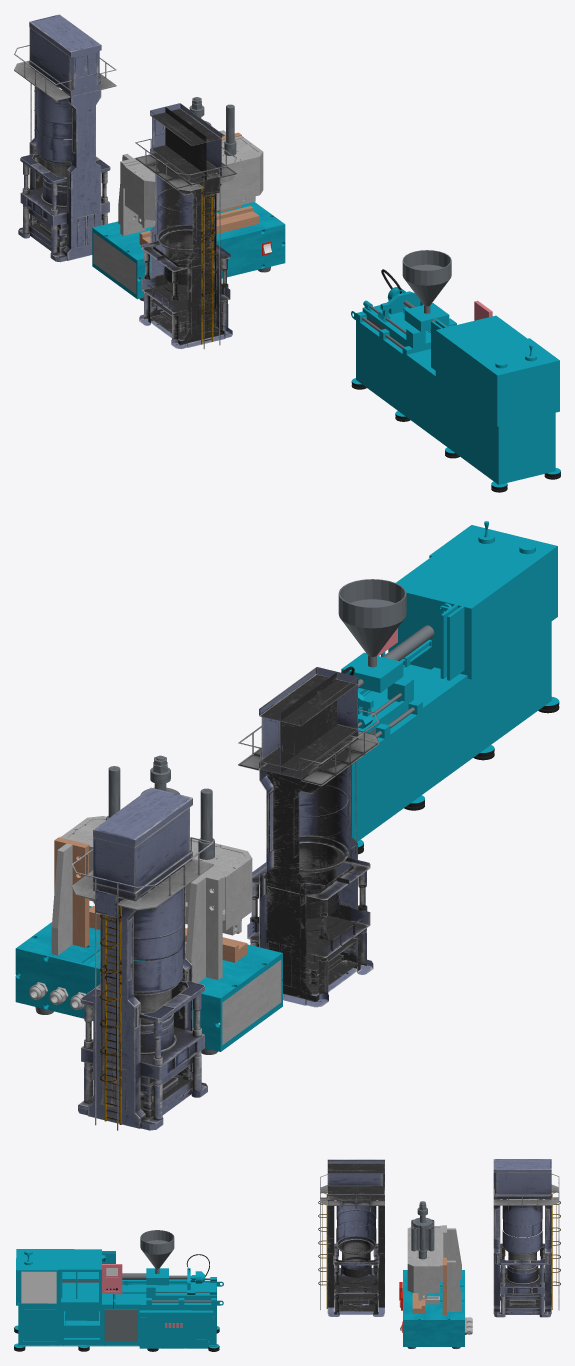
The model's file is HydroPress.glb.
3 views of the same model, one above another, from view 1: azimuth 30°, elevation 25°; view 2: azimuth 150°, elevation 25°; view 3: azimuth 270°, elevation 25° (orthographic). The views are drawn at different scales.
Parts seen in each view (by area): view 1: empty_2_6b0676, Cube.002_96fd3e, Cube.001_f675c1, ÈÈÑ¹»ú_µ¼Öù_2_8674c0, ÈÈÑ¹»ú_µ¼Öù_2_183e5d, empty_2_24949a, Cube.001_703fce, Cube.001_f0507c, Cube.002_44d481, ÈÈÑ¹»ú_µ¼Öù_2_430cdc, ÈÈÑ¹»ú_µ¼Öù_2_691172; view 2: empty_2_6b0676, Cube.002_96fd3e, Cube.001_f675c1, ÈÈÑ¹»ú_µ¼Öù_2_8674c0, ÈÈÑ¹»ú_µ¼Öù_2_183e5d, empty_2_24949a, Cube.001_703fce, Cube.002_44d481, Cube.002_81272a, ÈÈÑ¹»ú_µ¼Öù_2_430cdc, ÈÈÑ¹»ú_µ¼Öù_2_691172; view 3: empty_2_6b0676, Cube.002_96fd3e, Cube.001_f675c1, ÈÈÑ¹»ú_µ¼Öù_2_8674c0, ÈÈÑ¹»ú_µ¼Öù_2_183e5d, empty_2_24949a, empty_2_ac76df, Cube.001_703fce, ÈÈÑ¹»ú_µ¼Öù_2_691172, Cube.002_44d481, empty_2_98e026, ÈÈÑ¹»ú_µ¼Öù_2_430cdc (+3 smaller).
Part boxes in pixels (x1,y1,x2,y2): empty_2_6b0676: (351,287,560,487); Cube.002_96fd3e: (14,14,116,262); Cube.001_f675c1: (135,103,236,349); ÈÈÑ¹»ú_µ¼Öù_2_8674c0: (93,130,263,294); ÈÈÑ¹»ú_µ¼Öù_2_183e5d: (92,202,285,299); empty_2_24949a: (362,250,451,349); Cube.001_703fce: (135,151,236,325); Cube.001_f0507c: (201,183,216,344); Cube.002_44d481: (14,60,116,237); ÈÈÑ¹»ú_µ¼Öù_2_430cdc: (139,132,259,245); ÈÈÑ¹»ú_µ¼Öù_2_691172: (139,97,270,301); empty_2_6b0676: (341,521,559,847); Cube.002_96fd3e: (72,787,213,1130); Cube.001_f675c1: (238,667,379,1007); ÈÈÑ¹»ú_µ¼Öù_2_8674c0: (29,816,281,1045); ÈÈÑ¹»ú_µ¼Öù_2_183e5d: (15,906,282,1051); empty_2_24949a: (338,579,434,737); Cube.001_703fce: (238,730,379,974); Cube.002_44d481: (71,854,213,1097); Cube.002_81272a: (100,900,121,1124); ÈÈÑ¹»ú_µ¼Öù_2_430cdc: (54,837,247,962); ÈÈÑ¹»ú_µ¼Öù_2_691172: (35,755,217,1054); empty_2_6b0676: (14,1249,223,1348); Cube.002_96fd3e: (493,1159,559,1317); Cube.001_f675c1: (320,1159,384,1316); ÈÈÑ¹»ú_µ¼Öù_2_8674c0: (402,1225,472,1334); ÈÈÑ¹»ú_µ¼Öù_2_183e5d: (403,1270,464,1346); empty_2_24949a: (62,1230,211,1341); empty_2_ac76df: (21,1268,117,1303); Cube.001_703fce: (320,1185,384,1303); ÈÈÑ¹»ú_µ¼Öù_2_691172: (407,1201,460,1348); Cube.002_44d481: (493,1184,559,1303); empty_2_98e026: (102,1264,182,1327); ÈÈÑ¹»ú_µ¼Öù_2_430cdc: (412,1257,446,1314).
Bounding box in the file's own units: 10.75 × 12.95 × 44.67.
12 materials, 7 textured.
